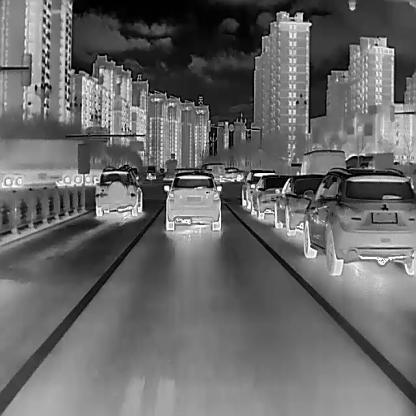car: (300, 164, 415, 276), (0, 136, 103, 187), (163, 164, 222, 232), (273, 172, 332, 237), (94, 165, 142, 217), (249, 172, 291, 220), (238, 166, 276, 208), (298, 148, 346, 179), (359, 151, 394, 172), (201, 161, 225, 179), (223, 166, 244, 182), (146, 164, 157, 180)
